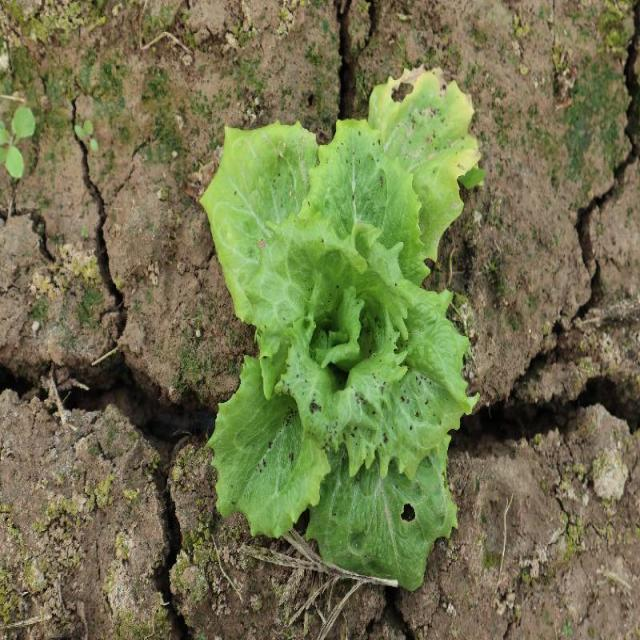crop: (208, 120, 465, 588)
